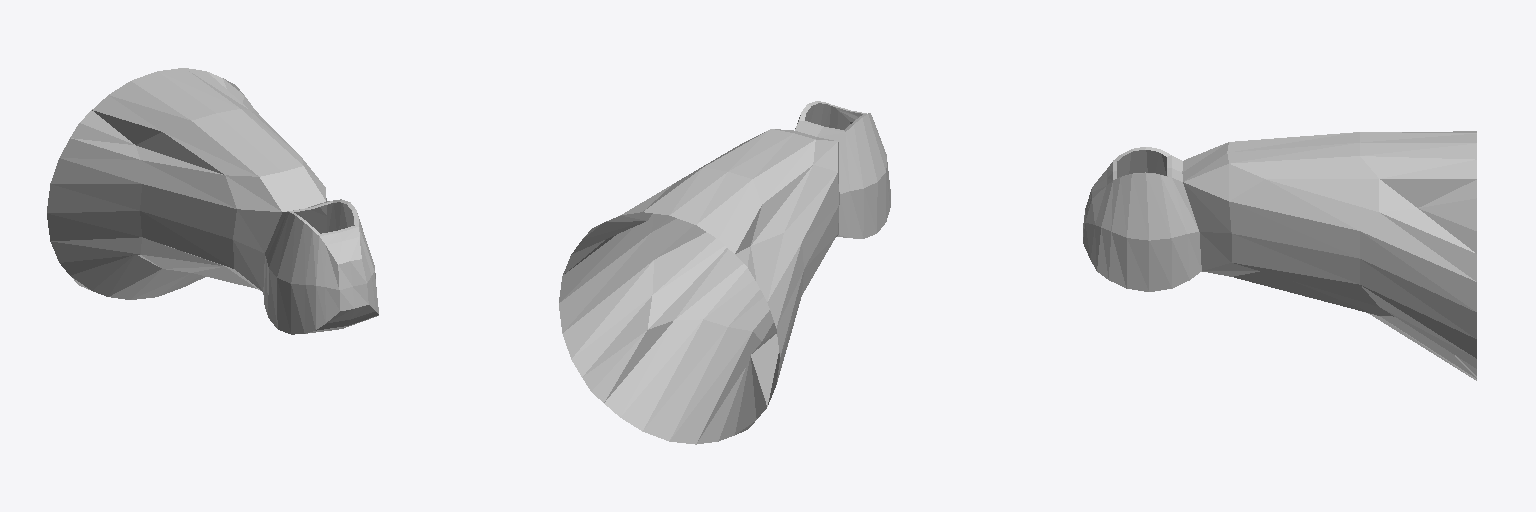
The model's file is player.obj.
3 views of the same model, side by side, from view 1: azimuth 30°, elevation 25°; view 2: azimuth 150°, elevation 25°; view 3: azimuth 270°, elevation 25° (orthographic).
Visible parts, largest first — view 1: Plane; view 2: Plane; view 3: Plane.
Part boxes in pixels (bbox=[...]): Plane: bbox=[47, 68, 378, 334]; Plane: bbox=[559, 101, 890, 444]; Plane: bbox=[1083, 131, 1476, 380].
Size of the model in its own units: 0.6649 by 0.6507 by 1.03.